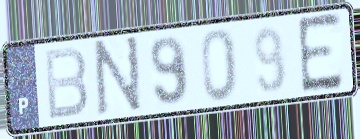0: (198, 25, 240, 104)
9: (147, 33, 191, 108), (251, 23, 289, 96)
B: (42, 45, 91, 123)
E: (295, 9, 346, 97)
N: (93, 33, 143, 119)
